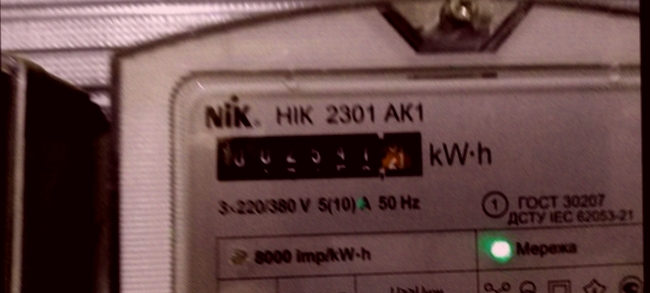0: (228, 142, 247, 168), (256, 138, 271, 166)
1: (356, 135, 369, 162)
2: (280, 138, 297, 163)
4: (332, 136, 345, 160)
5: (305, 137, 324, 165)
6: (383, 152, 399, 170)
screen: (202, 117, 436, 191)
